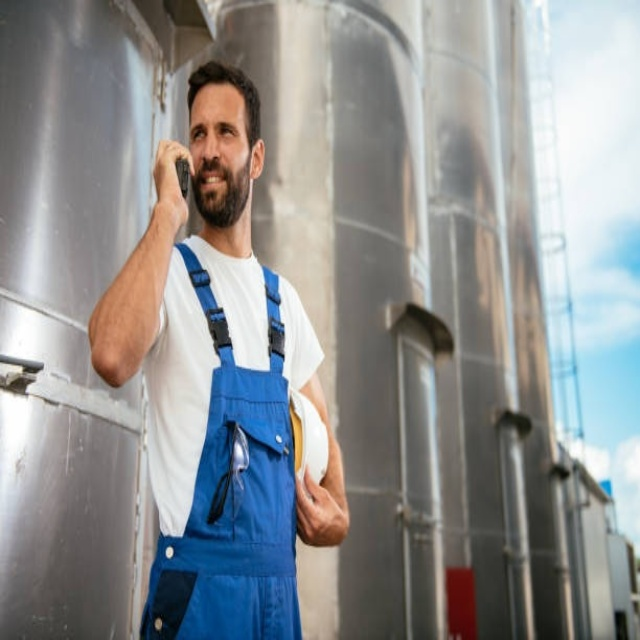Sin_gafas: (187, 111, 244, 147)
Sin_guantes: (293, 464, 353, 549), (153, 138, 193, 221)
Sin_mascara: (197, 163, 231, 207)
